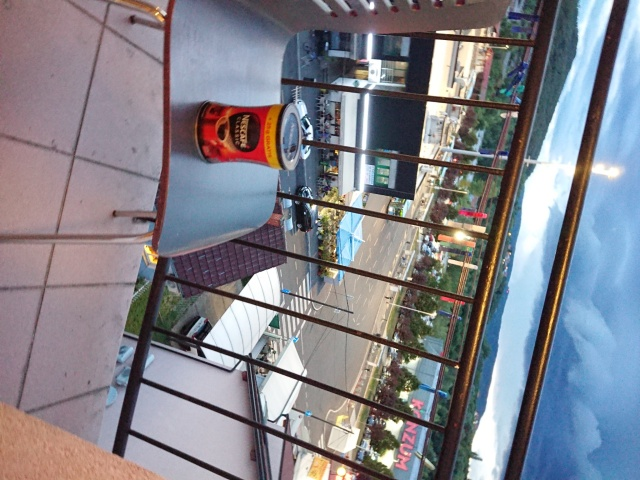Nescafe Classic 225g: (192, 98, 305, 174)
